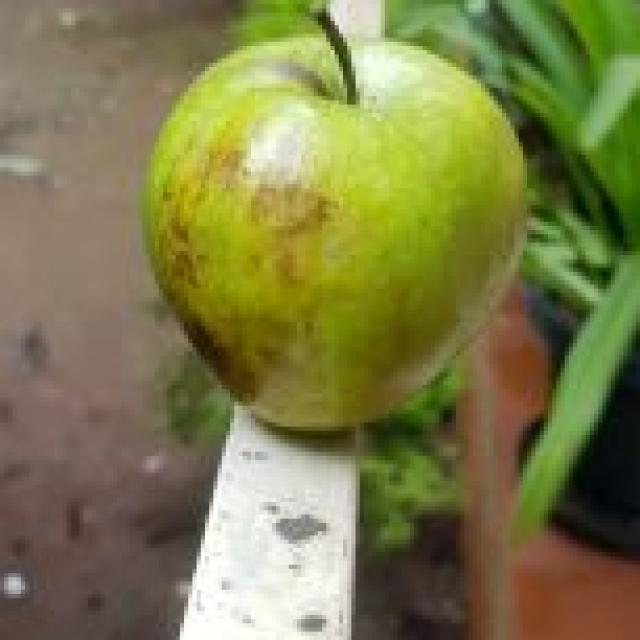Good_Apple 10-21 days: (142, 27, 525, 430)
